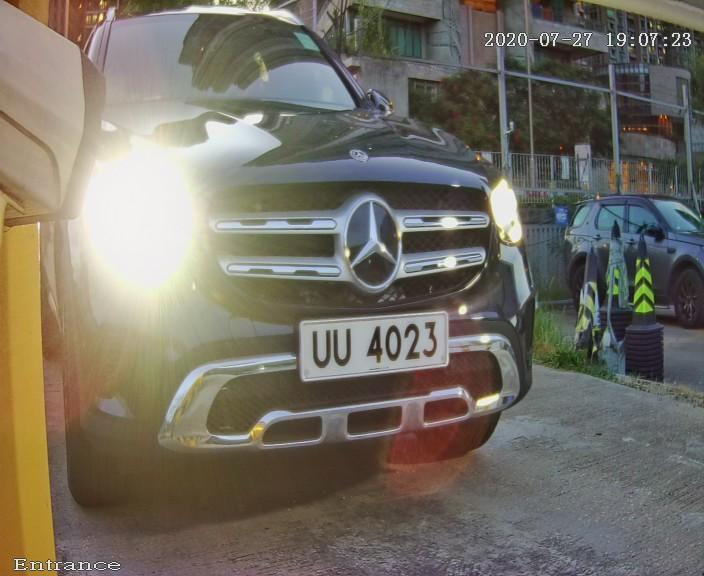privatecar: (51, 16, 532, 505)
